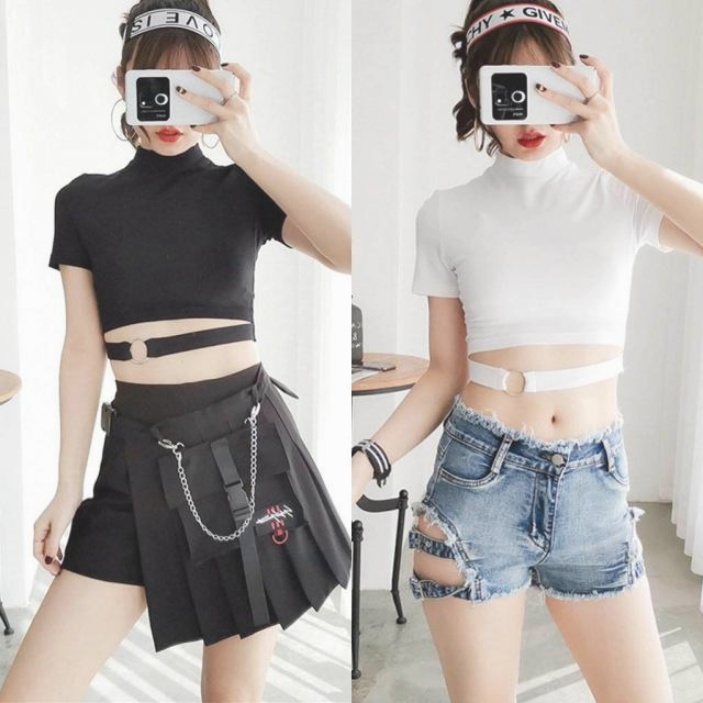Crop_Top: (463, 160, 627, 447), (94, 157, 257, 386)
Miniskirt: (0, 371, 350, 703)
Shorts: (404, 398, 671, 703)
